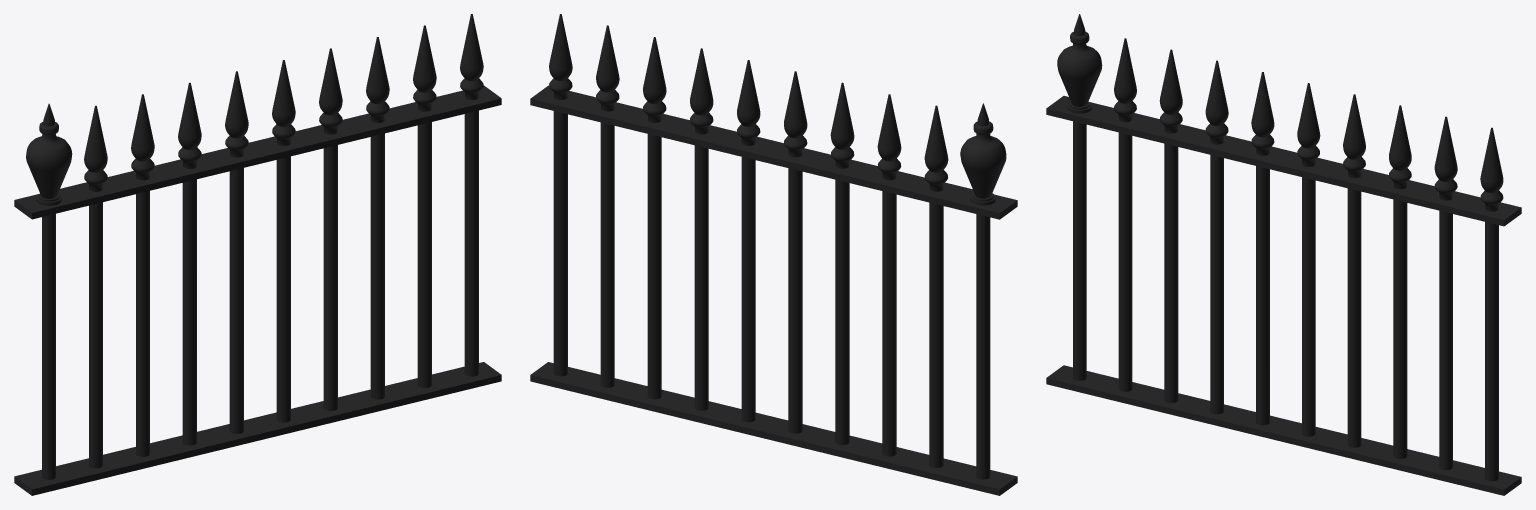
File: enrejado.obj
3 renders of one model, left to right at view 1: azimuth 30°, elevation 25°; view 2: azimuth 150°, elevation 25°; view 3: azimuth 330°, elevation 25°, orthographic. The views are drawn at different scales.
Visible parts, largest first — view 1: fence001; view 2: fence001; view 3: fence001.
Boxes of the visible parts, x1=… form: fence001: x1=14, y1=14, x2=501, y2=495; fence001: x1=530, y1=14, x2=1017, y2=495; fence001: x1=1046, y1=14, x2=1521, y2=495.
Size of the model in its own units: 22.77 by 17.59 by 1.95.
1 material, 1 textured.
